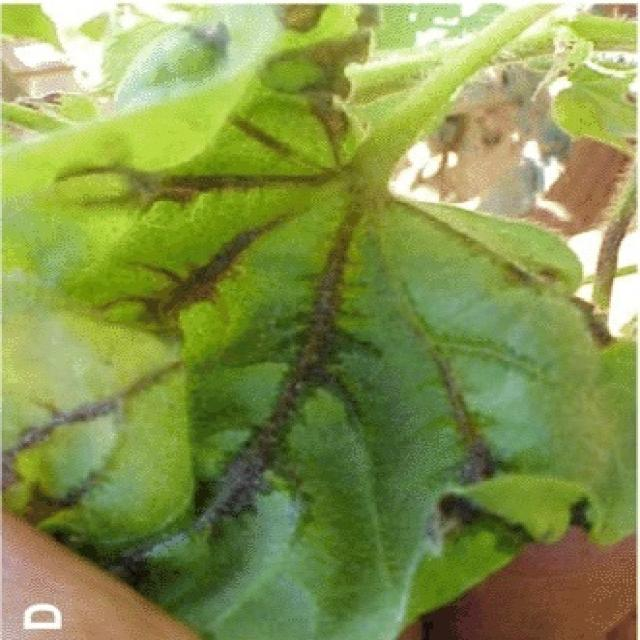Bacterial Blight: (112, 108, 424, 507)
